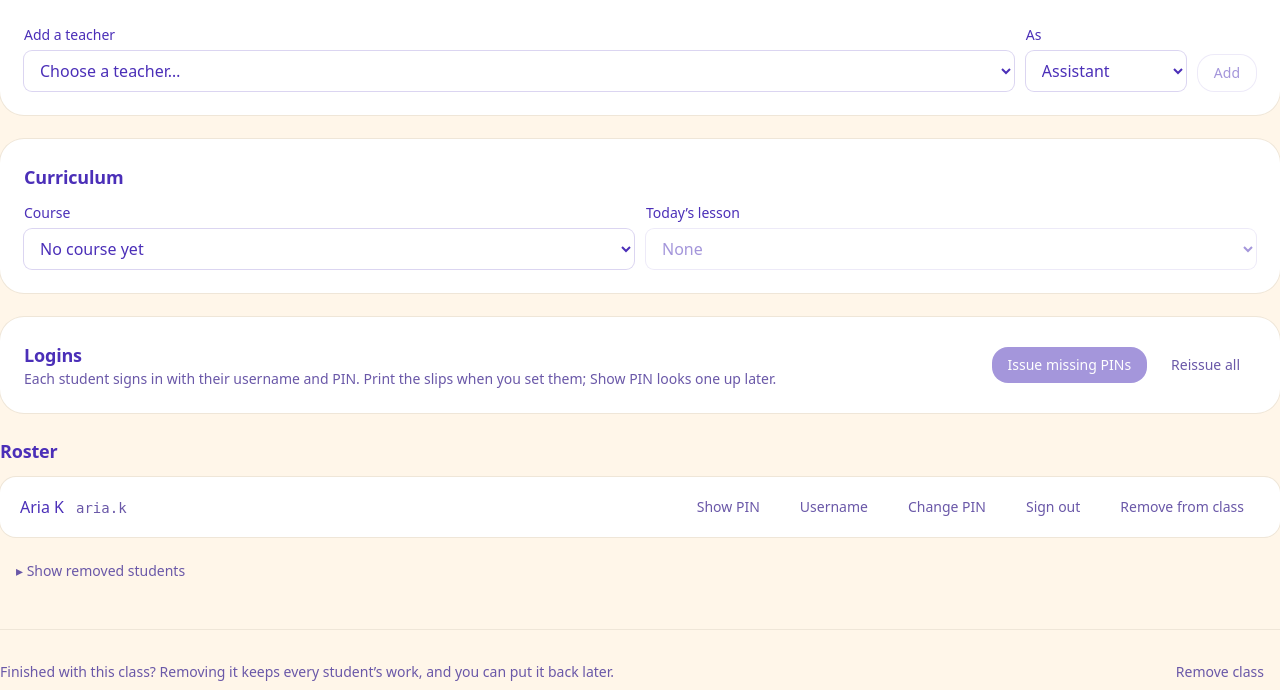
a teacher who is not the owner only sees Archive
The image size is (1280, 690).
(page scrolled)
Click the button "Remove from class".
click(1182, 507)  # box [1104,489,1260,525]
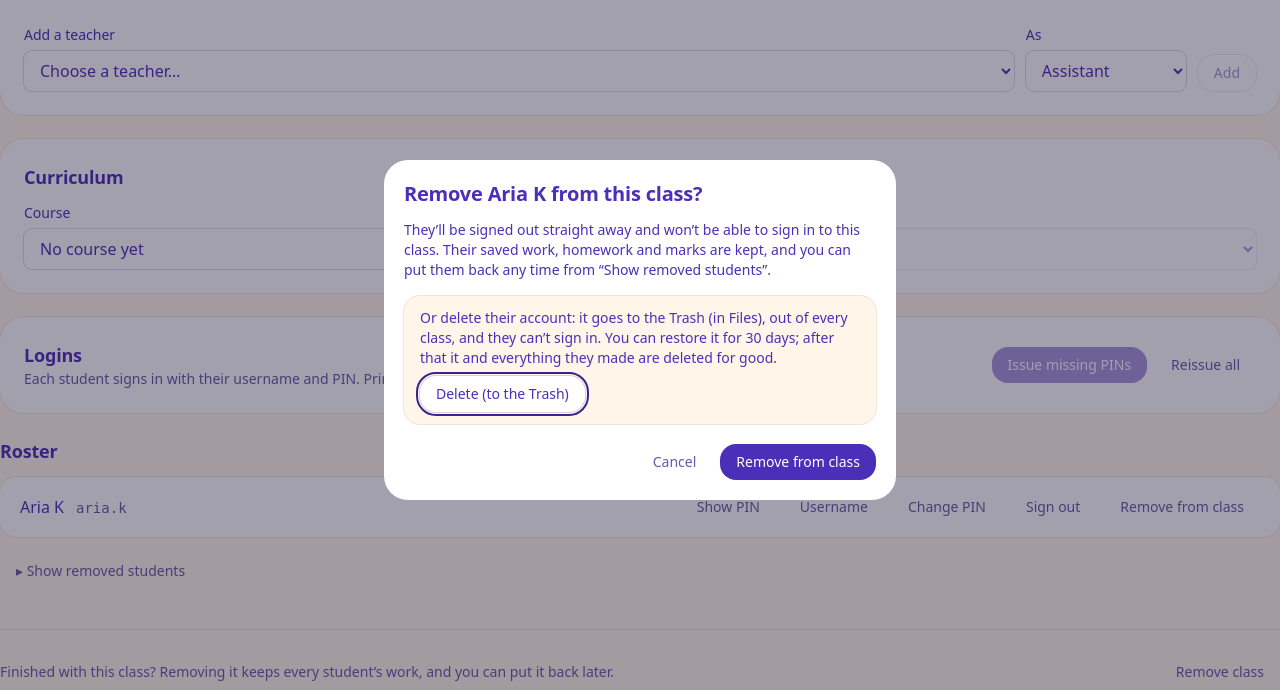
Check: the button "Remove from class" is shown, box [720,444,876,480]
